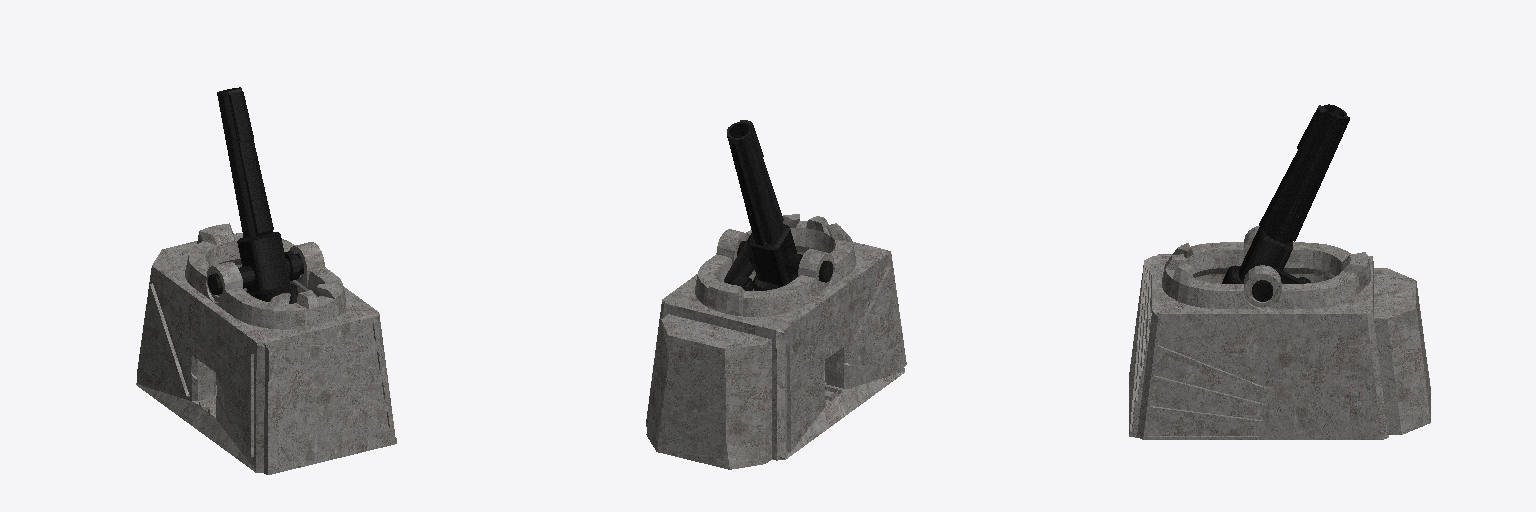
3 views of the same model, side by side, from view 1: azimuth 30°, elevation 25°; view 2: azimuth 150°, elevation 25°; view 3: azimuth 270°, elevation 25° (orthographic).
Parts seen in each view (by area): view 1: Turret.003_Turret.004, Turret.001_Turret.002; view 2: Turret.003_Turret.004, Turret.001_Turret.002; view 3: Turret.003_Turret.004, Turret.001_Turret.002.
Part boxes in pixels (x1,y1,x2,y2): Turret.003_Turret.004: (136, 223, 396, 474); Turret.001_Turret.002: (208, 87, 303, 303); Turret.003_Turret.004: (646, 214, 906, 469); Turret.001_Turret.002: (724, 120, 833, 290); Turret.003_Turret.004: (1129, 226, 1430, 439); Turret.001_Turret.002: (1222, 104, 1349, 301).
Size of the model in its own units: 60.93 by 122 by 112.
Materials: 7 (4 with a texture image).